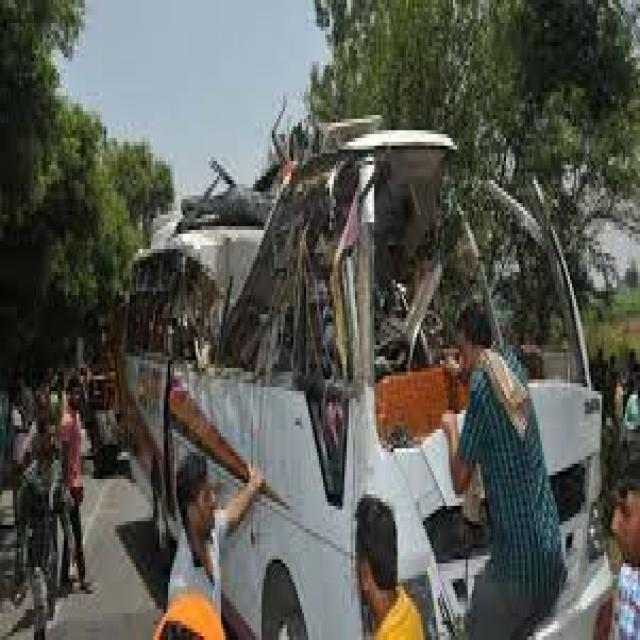accident: (104, 153, 640, 640)
